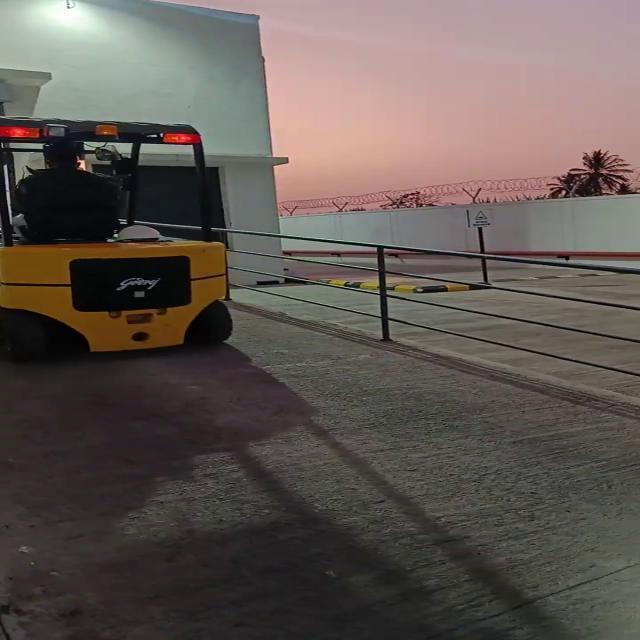forklift: (1, 121, 224, 367)
